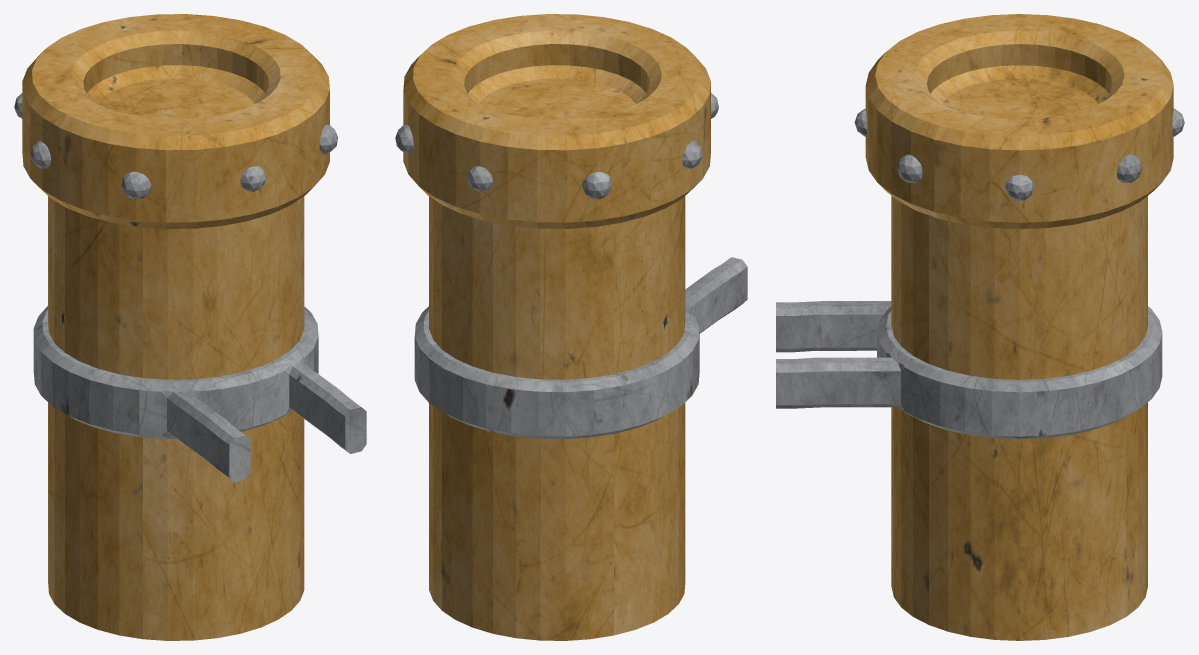
The model's file is pipe.fbx.
3 views of the same model, side by side, from view 1: azimuth 30°, elevation 25°; view 2: azimuth 150°, elevation 25°; view 3: azimuth 270°, elevation 25° (orthographic).
Parts seen in each view (by area): view 1: Cylinder; view 2: Cylinder; view 3: Cylinder.
Part boxes in pixels (<box>): Cylinder: <box>14,14,366,640</box>; Cylinder: <box>395,14,747,640</box>; Cylinder: <box>776,14,1184,640</box>.
Size of the model in its own units: 129 by 220 by 159.
Materials: 2 (2 with a texture image).
